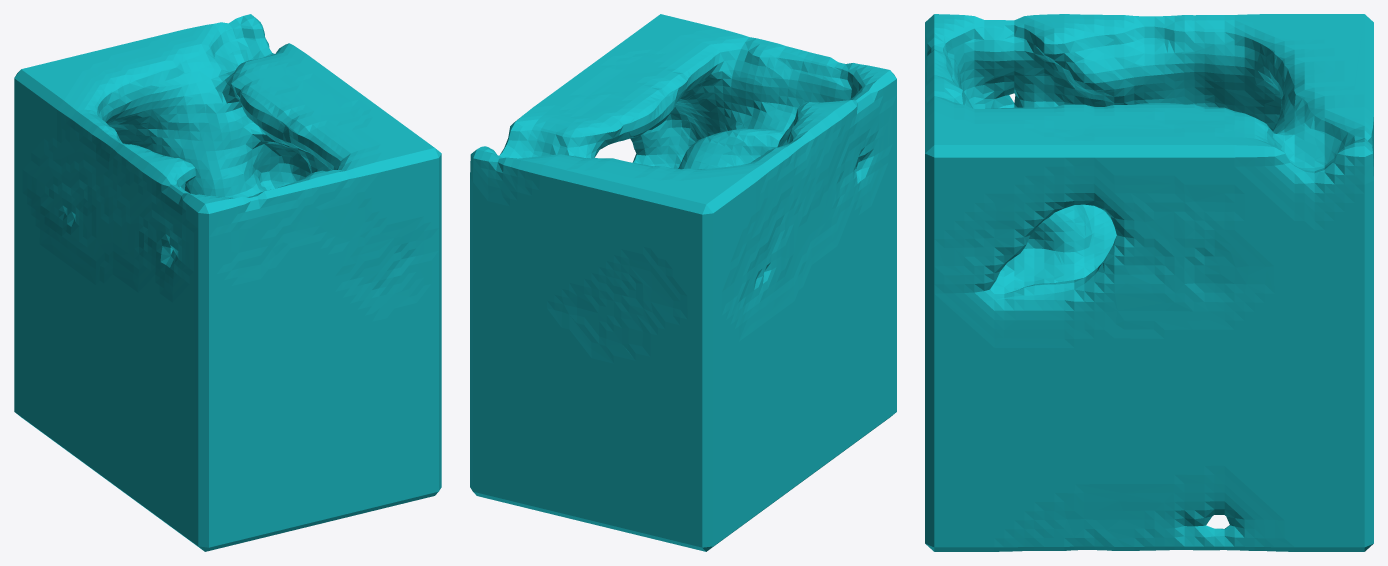
3 renders of one model, left to right at view 1: azimuth 30°, elevation 25°; view 2: azimuth 150°, elevation 25°; view 3: azimuth 270°, elevation 25°, orthographic. The views are drawn at different scales.
Parts seen in each view (by area): view 1: Liquid_Domain; view 2: Liquid_Domain; view 3: Liquid_Domain.
Boxes of the visible parts, bbox=[...] form: Liquid_Domain: bbox=[14, 14, 441, 551]; Liquid_Domain: bbox=[470, 14, 896, 551]; Liquid_Domain: bbox=[925, 14, 1373, 551].
Size of the model in its own units: 79.09 by 108 by 108.
